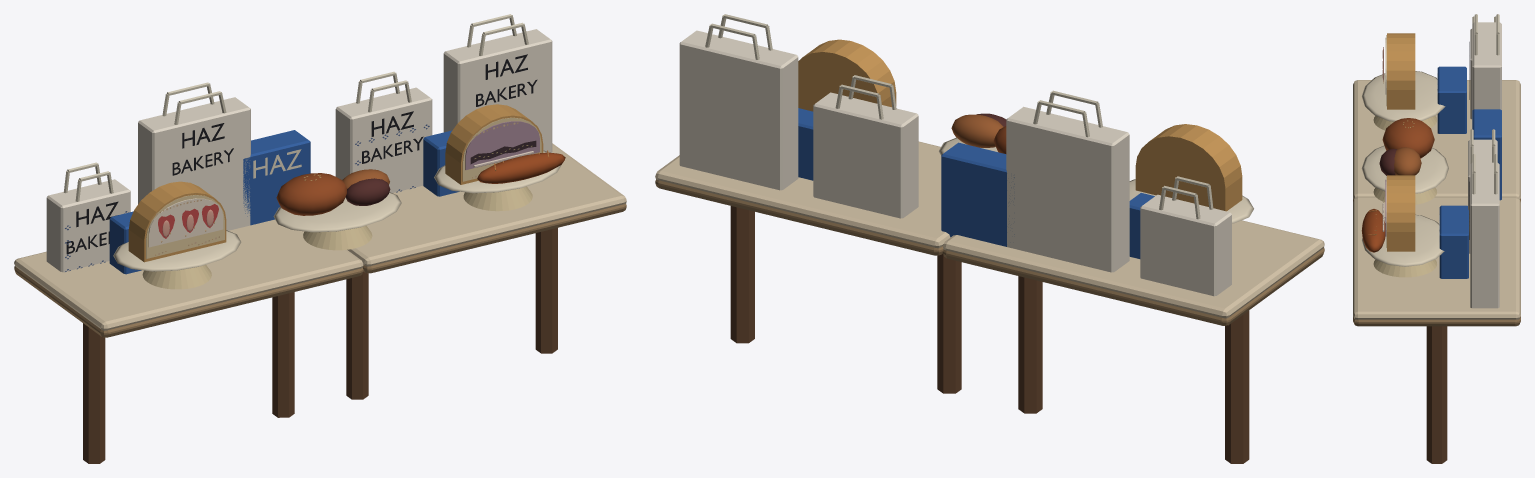
Rendered from display.glb.
3 renders of one model, left to right at view 1: azimuth 30°, elevation 25°; view 2: azimuth 150°, elevation 25°; view 3: azimuth 270°, elevation 25°, orthographic. The views are drawn at different scales.
Parts seen in each view (by area): view 1: HazBakery; view 2: HazBakery; view 3: HazBakery.
Part boxes in pixels (<box>): HazBakery: <box>14,14,626,463</box>; HazBakery: <box>655,14,1324,463</box>; HazBakery: <box>1353,14,1520,463</box>.
Bounding box in the file's own units: 2.56 × 1.47 × 0.7701.
